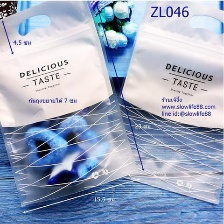snack: (0, 0, 143, 214), (105, 0, 224, 208)
